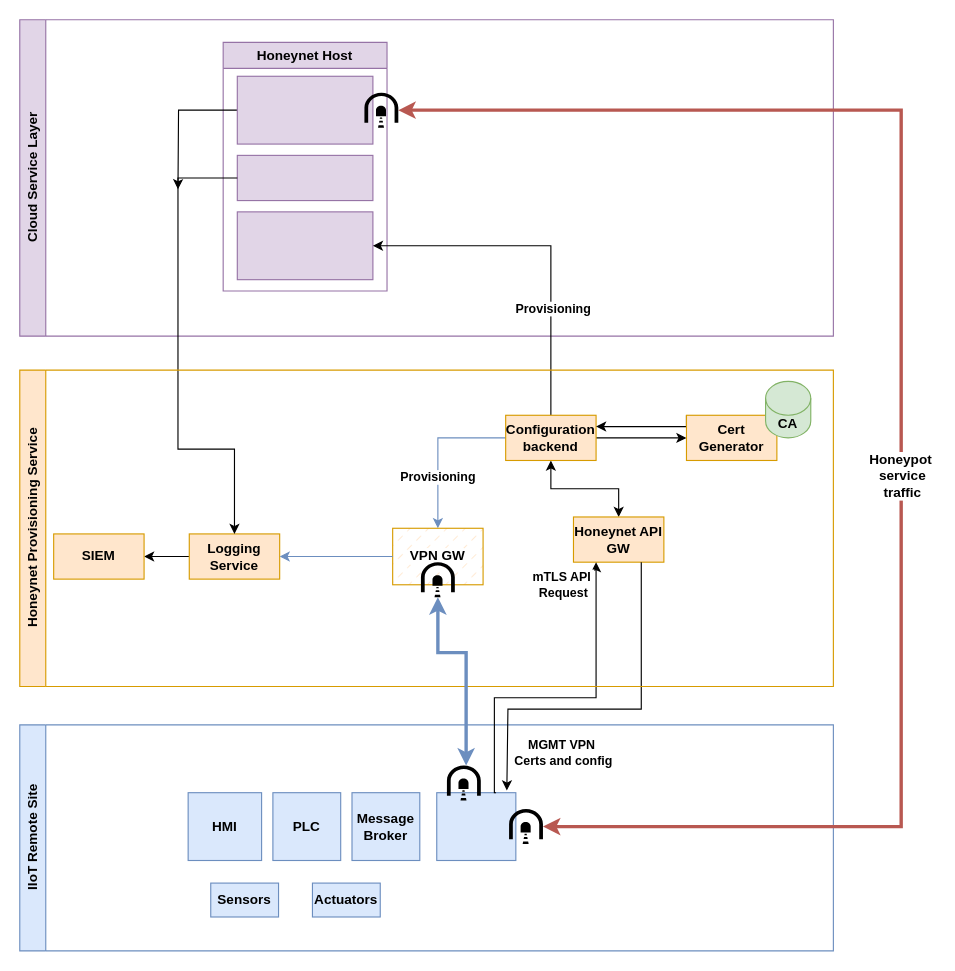
Some shapes in this 955 by 971 pixel diagram are drawn without their labels. The centre of each missing label's shape, as x and y in pixels:
"Contained honeynet" goes at point 304,109.
"Container Service" goes at point 304,177.
"Honeynet Interface" goes at point 476,826.
"Service Provisioning Layer" goes at point 304,245.
